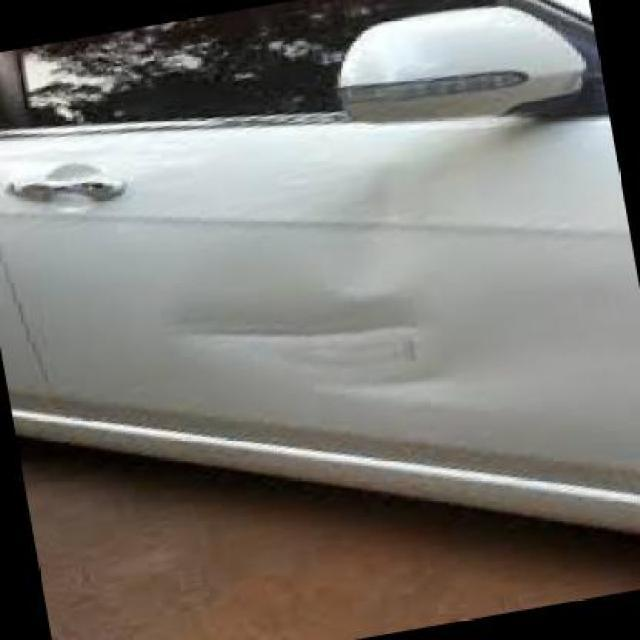dent: (168, 292, 437, 389), (325, 163, 436, 291)
